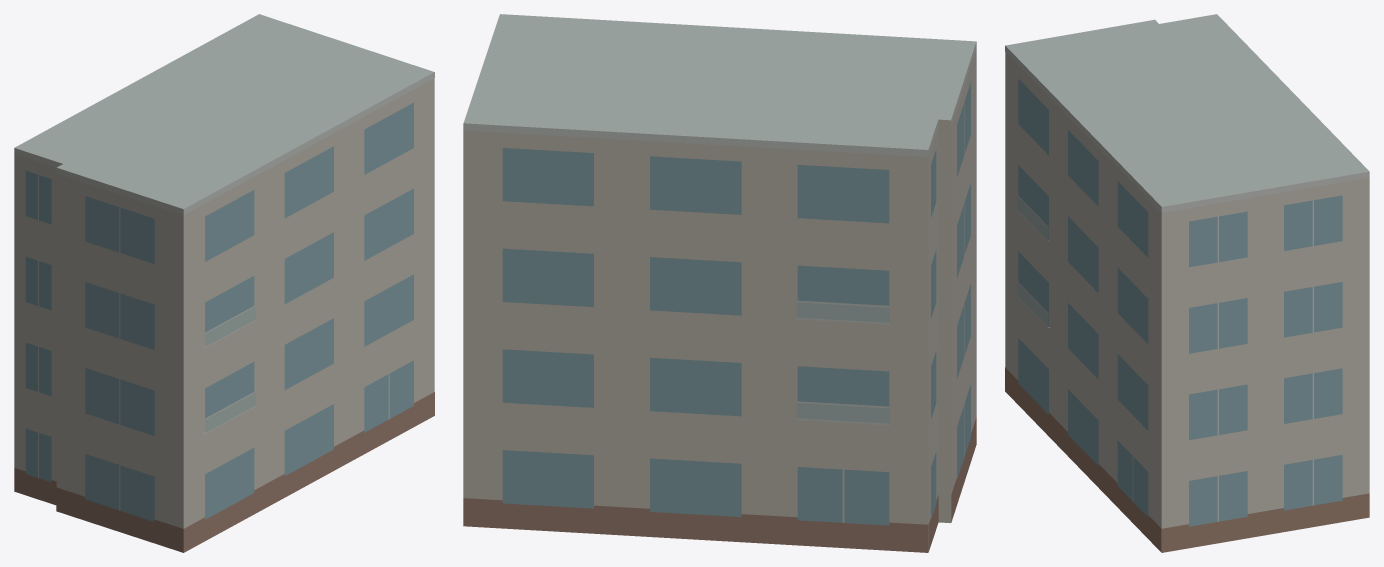
Rendered from survey-upis-32851347.glb.
3 views of the same model, side by side, from view 1: azimuth 30°, elevation 25°; view 2: azimuth 150°, elevation 25°; view 3: azimuth 270°, elevation 25° (orthographic). The views are drawn at different scales.
Visible parts, largest first — view 1: survey-upis-32851347.tmp; view 2: survey-upis-32851347.tmp; view 3: survey-upis-32851347.tmp.
Part boxes in pixels (x1,y1,x2,y2): survey-upis-32851347.tmp: (14,14,434,552); survey-upis-32851347.tmp: (463,14,976,552); survey-upis-32851347.tmp: (1005,14,1369,552).
Size of the model in its own units: 16.58 by 13.85 by 13.24.
